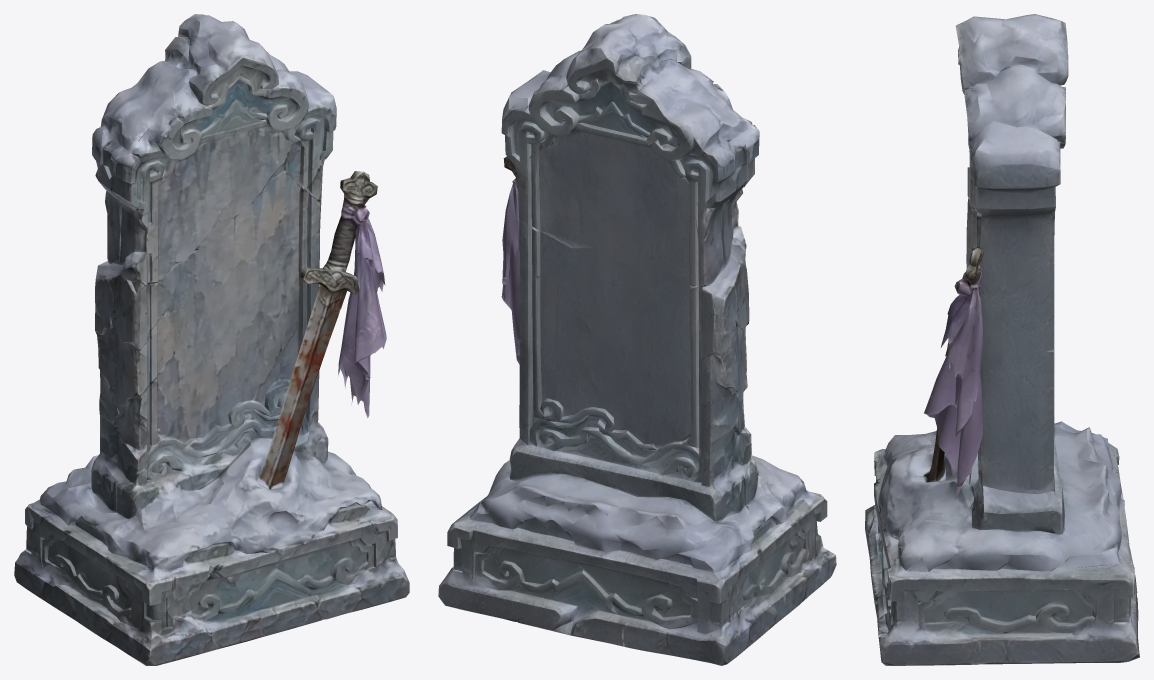
File: stele.glb
3 views of the same model, side by side, from view 1: azimuth 30°, elevation 25°; view 2: azimuth 150°, elevation 25°; view 3: azimuth 270°, elevation 25° (orthographic). The views are drawn at different scales.
Parts seen in each view (by area): view 1: model; view 2: model; view 3: model.
Boxes of the visible parts, bbox=[...] form: model: bbox=[14, 14, 409, 665]; model: bbox=[438, 14, 836, 665]; model: bbox=[865, 14, 1139, 665].
Bounding box in the file's own units: 1.05 × 1.9 × 0.8086.
1 material, 1 textured.
